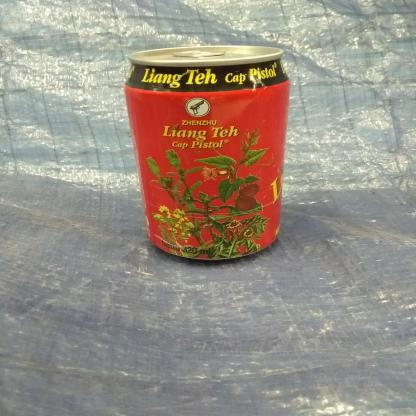mouse: (121, 41, 299, 264)
